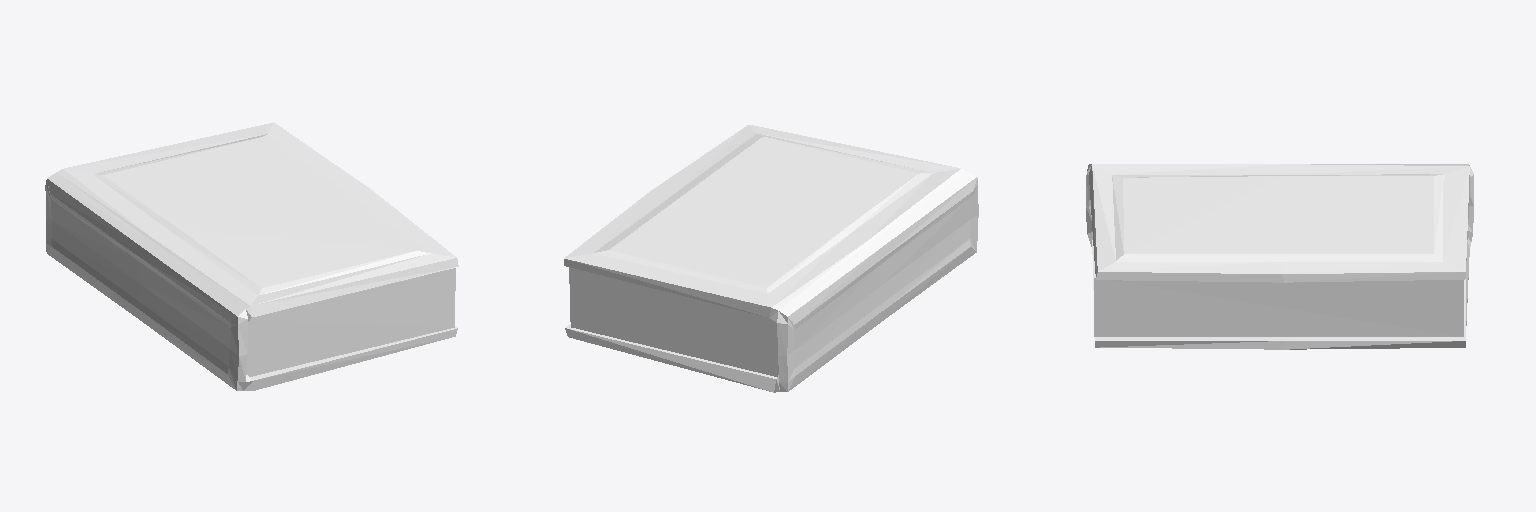
Rendered from Bookie.obj.
3 renders of one model, left to right at view 1: azimuth 30°, elevation 25°; view 2: azimuth 150°, elevation 25°; view 3: azimuth 270°, elevation 25°, orthographic.
Parts seen in each view (by area): view 1: Book, Pages; view 2: Book, Pages; view 3: Book, Pages.
Part boxes in pixels (left/top/right/bottom): Book: left=45, top=122, right=458, bottom=390; Pages: left=247, top=267, right=455, bottom=376; Book: left=564, top=125, right=978, bottom=392; Pages: left=569, top=267, right=778, bottom=376; Book: left=1086, top=164, right=1473, bottom=349; Pages: left=1094, top=261, right=1463, bottom=336.
Size of the model in its own units: 252 by 90.09 by 364.